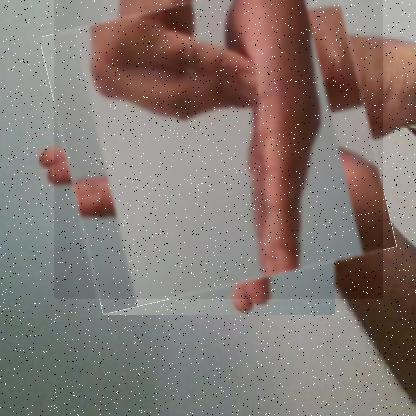Z: (53, 0, 383, 300)
